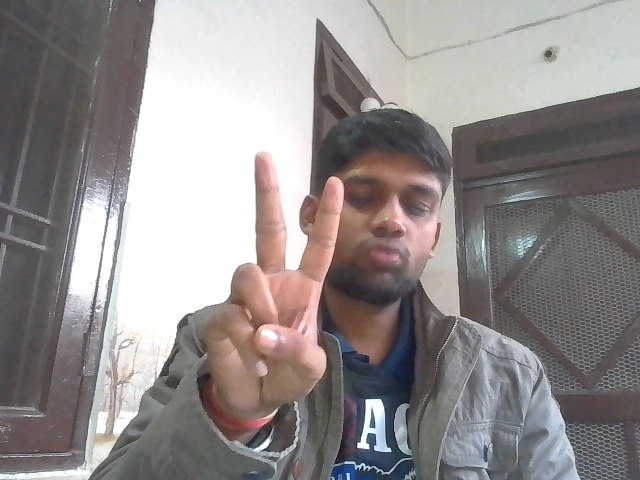Enjoy: (202, 149, 336, 417)
